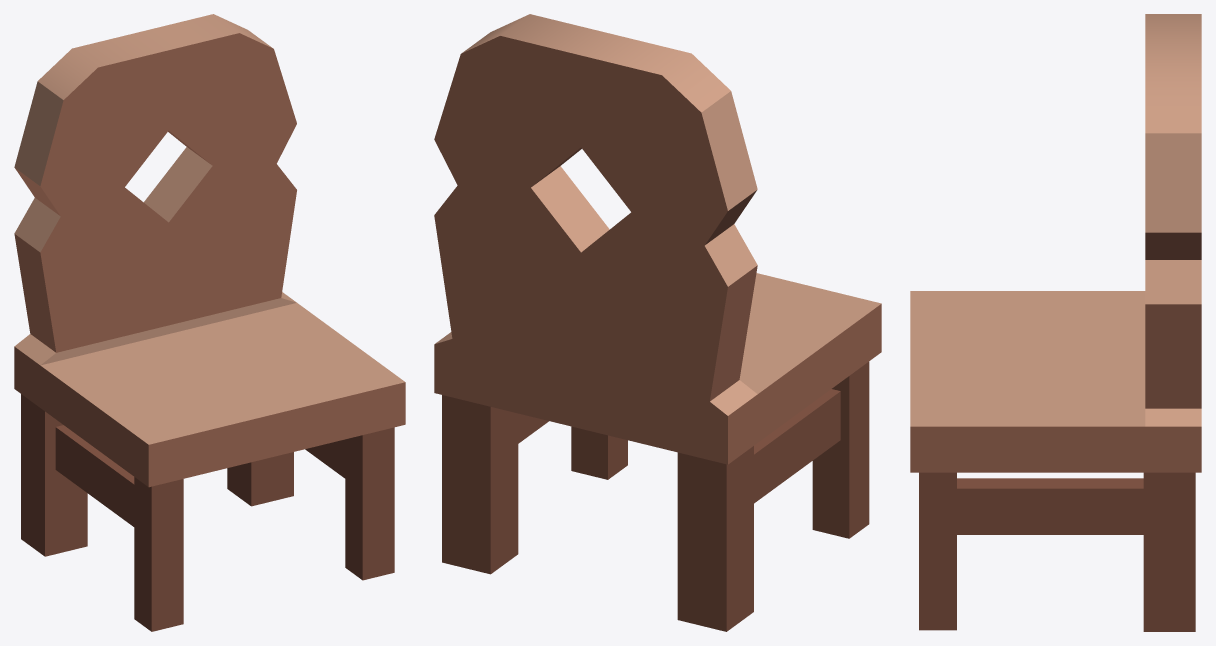
The model's file is chair01.fbx.
3 views of the same model, side by side, from view 1: azimuth 30°, elevation 25°; view 2: azimuth 150°, elevation 25°; view 3: azimuth 270°, elevation 25° (orthographic). The views are drawn at different scales.
Visible parts, largest first — view 1: chair01; view 2: chair01; view 3: chair01.
Boxes of the visible parts, x1,y1,x2,y2 form: chair01: [14, 14, 405, 631]; chair01: [434, 14, 881, 631]; chair01: [910, 14, 1201, 631].
Size of the model in its own units: 32.24 by 57.05 by 29.22.
Materials: 1 (1 with a texture image).
